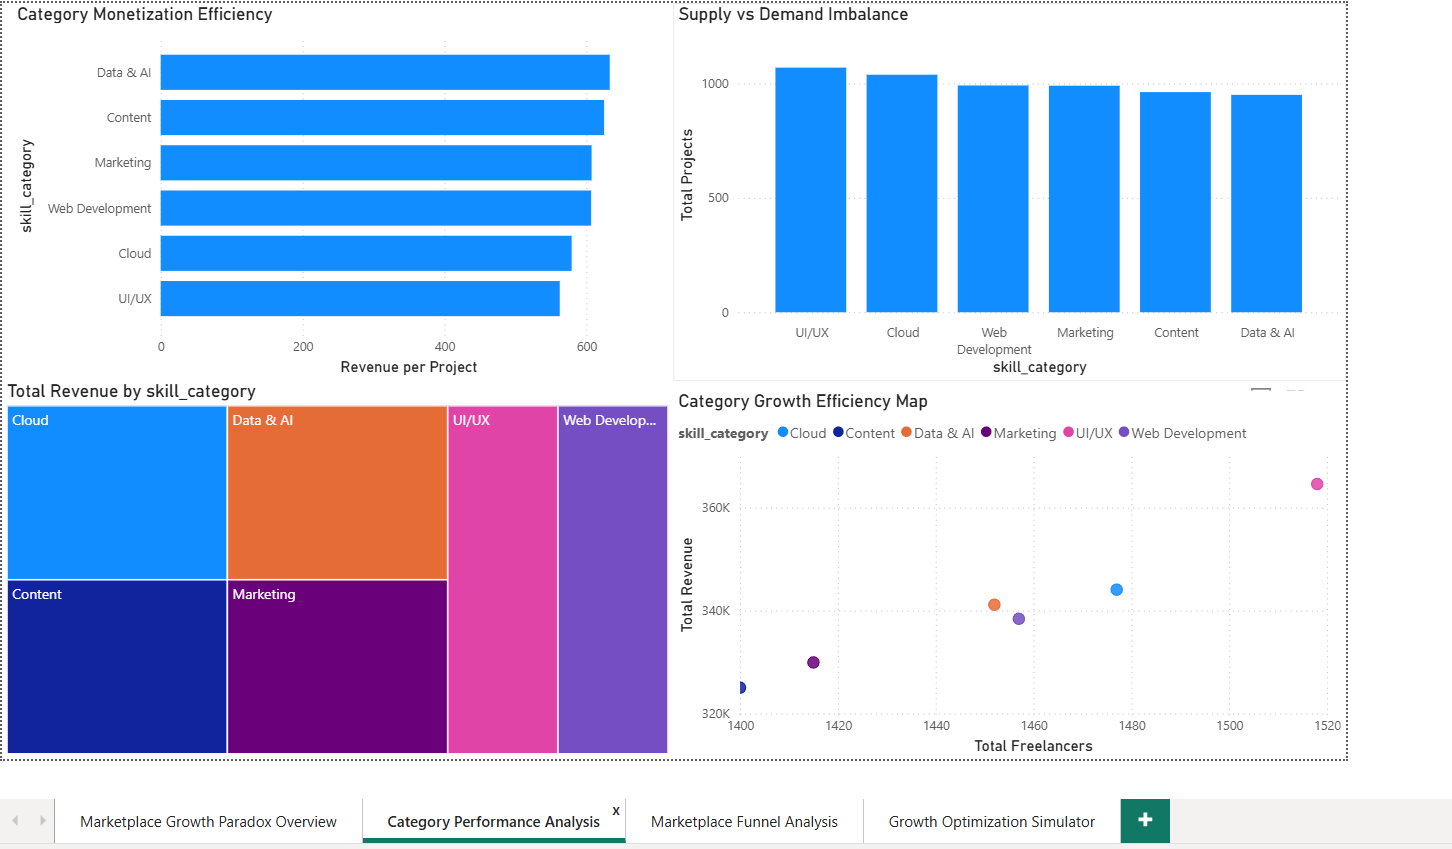

This screenshot's page, from the dashboard's own definition file:
{"tool":"powerbi","page":{"name":"Category Performance Analysis","canvas":[1280,720],"ordinal":1},"visuals":[{"type":"clusteredBarChart","title":"Category Monetization Efficiency","fields":{"Category":["projects.skill_category"],"Y":["transactions.Revenue per Project"]},"box":[9.8,0,629.8,359.5],"z":0},{"type":"clusteredColumnChart","title":"Supply vs Demand Imbalance","fields":{"Category":["projects.skill_category"],"Y":["projects.Total Projects"]},"box":[639.5,0,640.8,359.5],"z":1000},{"type":"treemap","fields":{"Group":["projects.skill_category"],"Values":["transactions.Total Revenue"]},"box":[0,359.5,639.5,360.7],"z":2000},{"type":"scatterChart","title":"Category Growth Efficiency Map","fields":{"Size":["projects.Total Projects"],"X":["Category Summary.Total Freelancers"],"Y":["Category Summary.Total Revenue"],"Series":["Category Summary.skill_category"]},"box":[639.5,369.1,640.8,351.3],"z":3000}]}

Visuals, with their boxes on the page's 1280x720 design canvas (x1, y1, x2, y2). These are canvas units, not pixel positions in the 1452x849 screenshot, which may show the page scaled, cropped or inside an application window:
"Category Monetization Efficiency" clusteredBarChart: 10 0 640 360
"Supply vs Demand Imbalance" clusteredColumnChart: 640 0 1280 360
treemap - projects.skill_category x transactions.Total Revenue: 0 360 640 720
"Category Growth Efficiency Map" scatterChart: 640 369 1280 720
